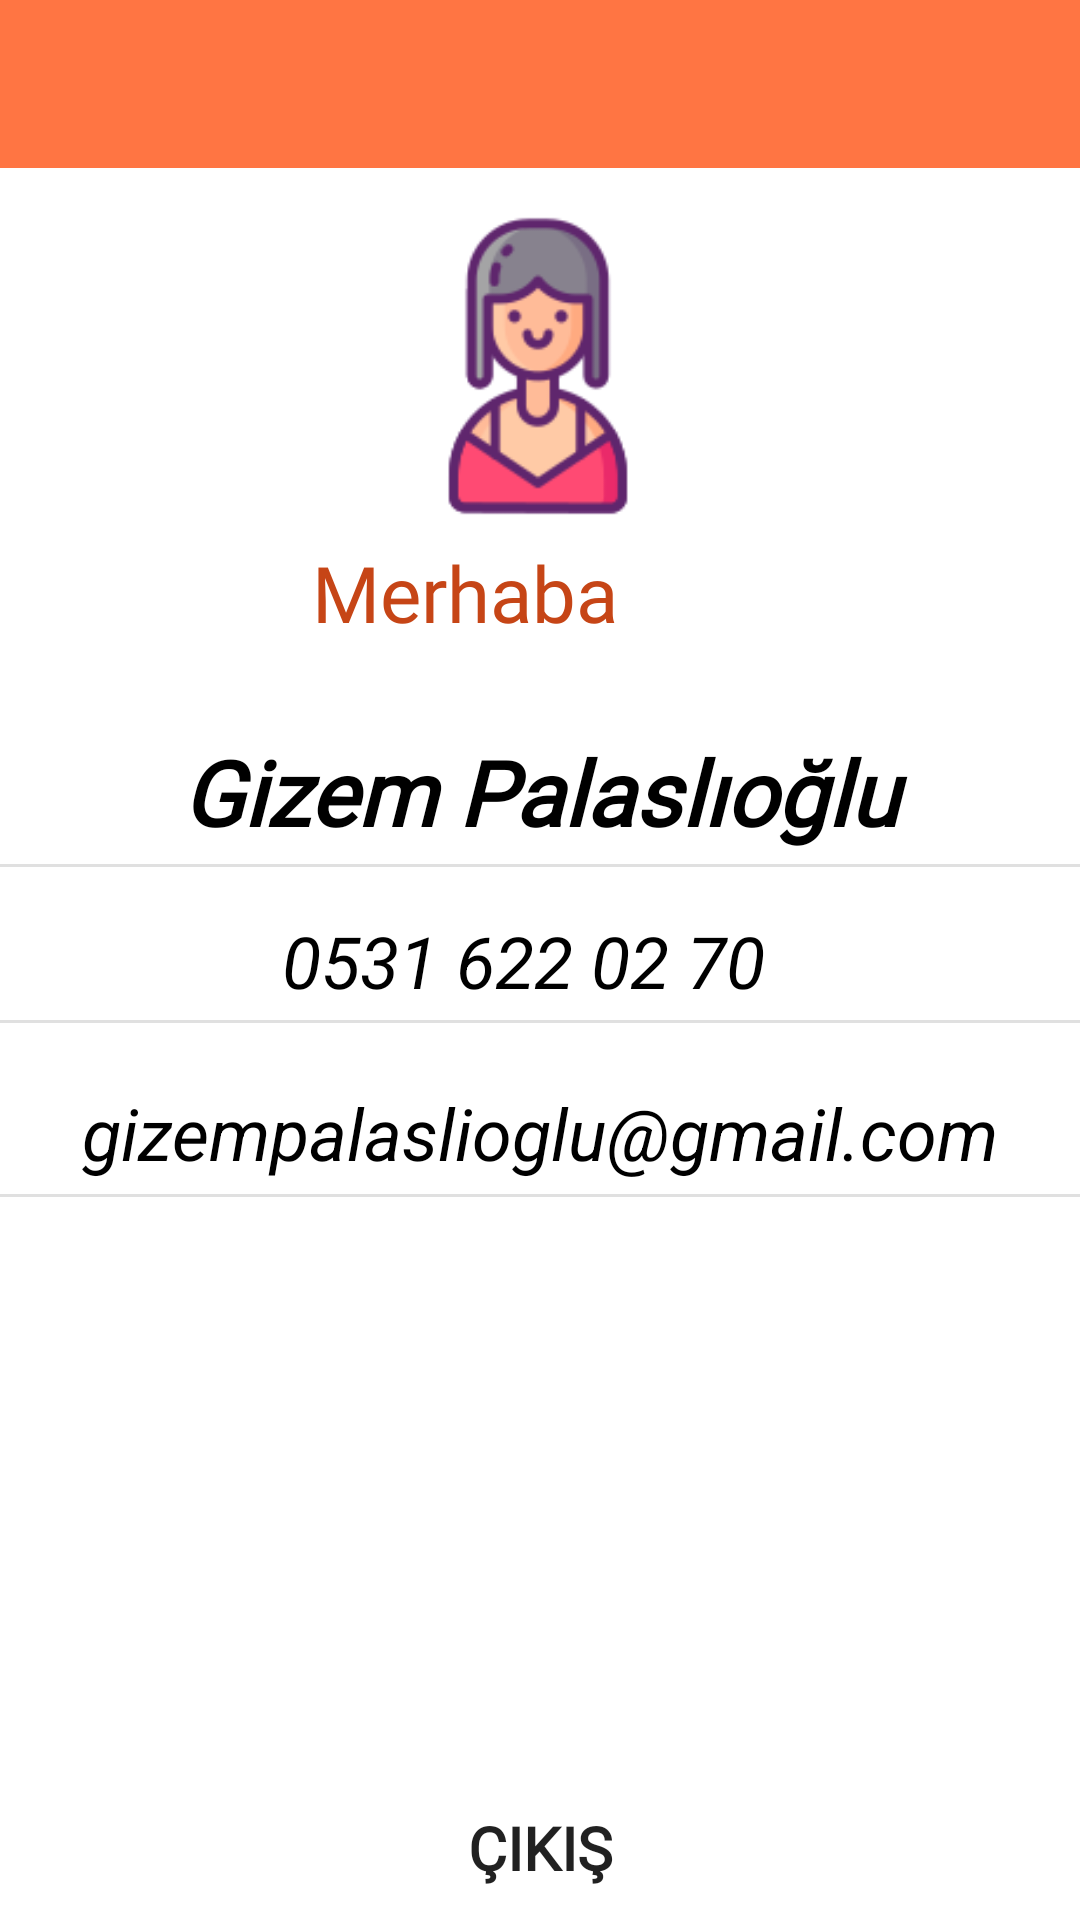

Named icons in this screenshot (1080px×1920px) and their centers, [x,y]:
profilepic: [538,366]
